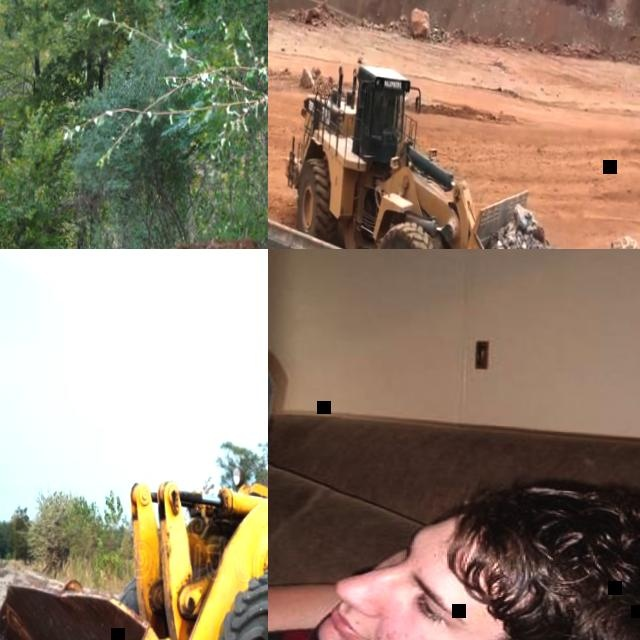NO-Hardhat: (444, 470, 640, 640)
NO-Mask: (312, 565, 422, 640)
Person: (268, 332, 640, 640)
machinery: (0, 317, 268, 640), (279, 56, 572, 249)
